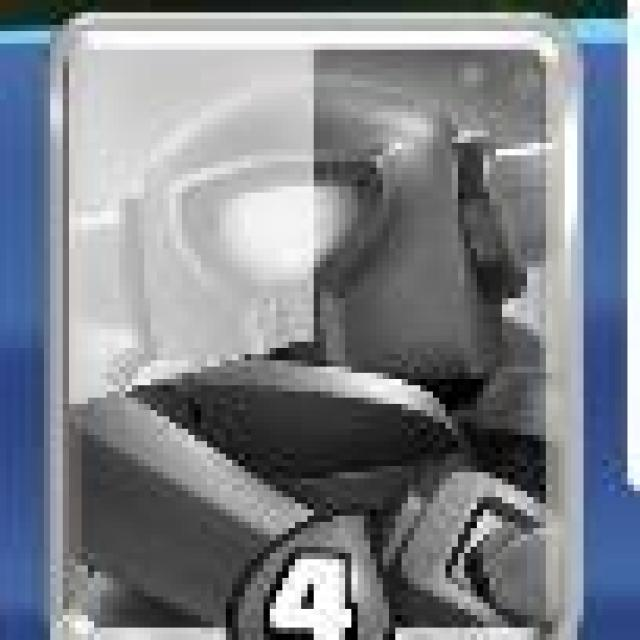Mini_Pekka: (47, 9, 580, 640)
